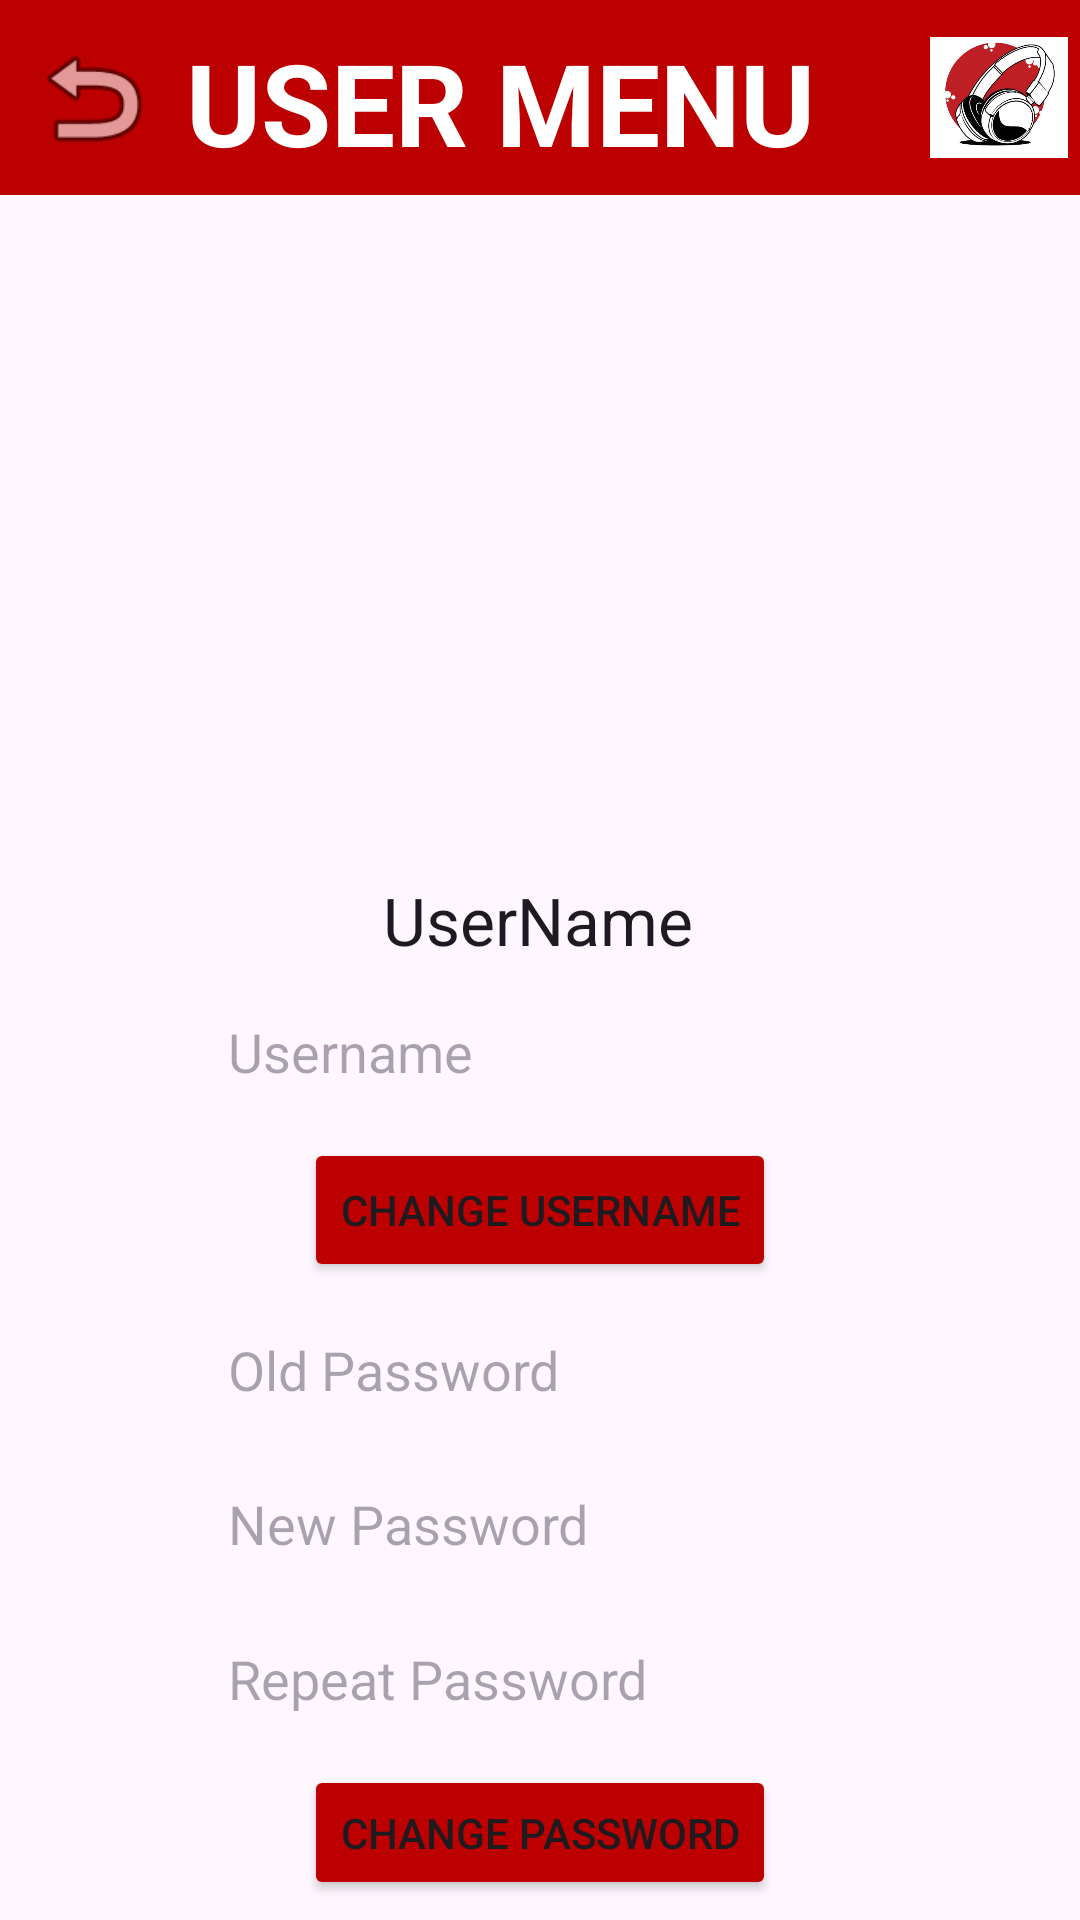

Point at icon controls on the screen. Image size 1080*1920, points as (x,y).
revert: (94,99)
